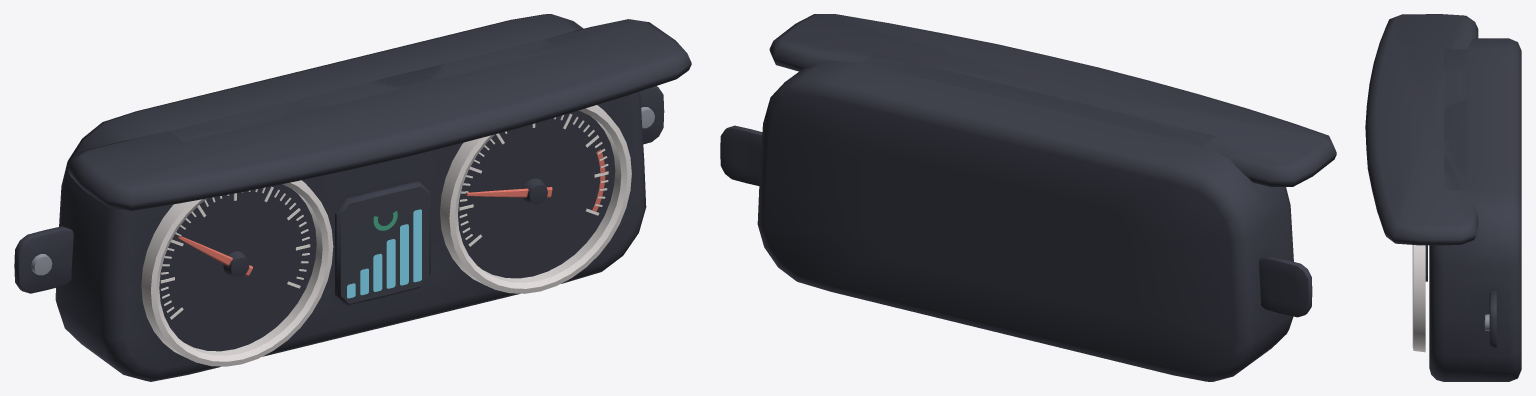
The model's file is instrument-cluster.obj.
3 views of the same model, side by side, from view 1: azimuth 30°, elevation 25°; view 2: azimuth 150°, elevation 25°; view 3: azimuth 270°, elevation 25° (orthographic). The views are drawn at different scales.
Parts seen in each view (by area): view 1: instrument-cluster_body, instrument-cluster_unit_glow; view 2: instrument-cluster_body; view 3: instrument-cluster_body.
Part boxes in pixels (x1,y1,x2,y2): instrument-cluster_body: (14, 14, 691, 381); instrument-cluster_unit_glow: (347, 209, 421, 298); instrument-cluster_body: (720, 14, 1336, 381); instrument-cluster_body: (1365, 14, 1521, 381).
Size of the model in its own units: 0.468 by 0.16 by 0.1268.
Materials: 6 (1 with a texture image).
